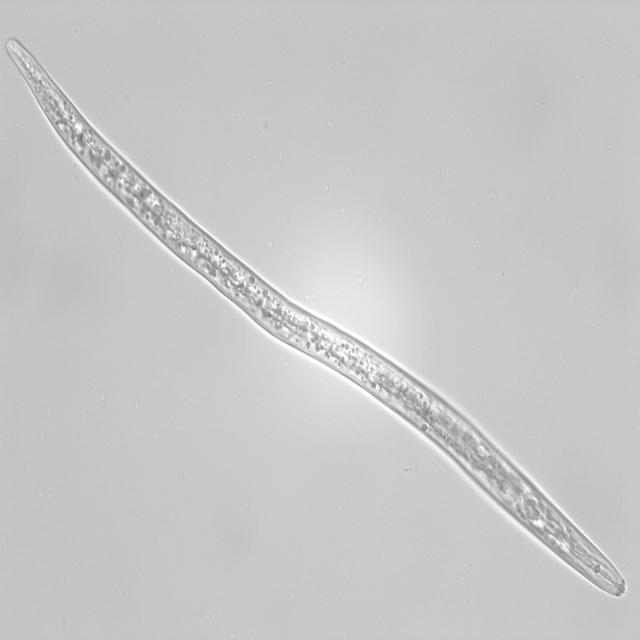Pratylenchus: (0, 30, 632, 609)
